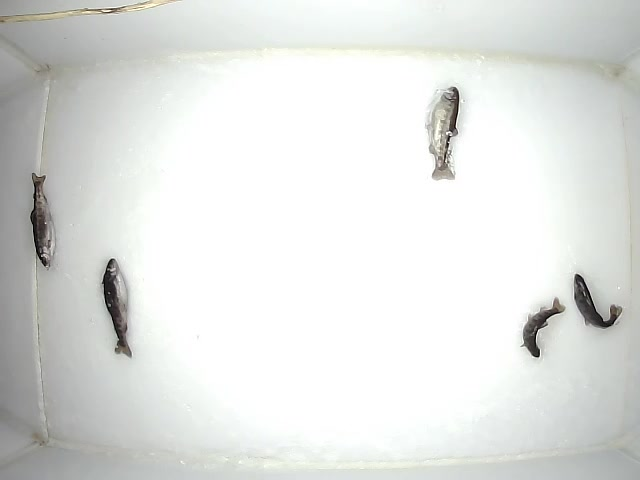fish: (424, 81, 461, 181), (100, 256, 134, 360), (569, 272, 623, 330), (518, 295, 566, 359), (28, 171, 56, 271)
